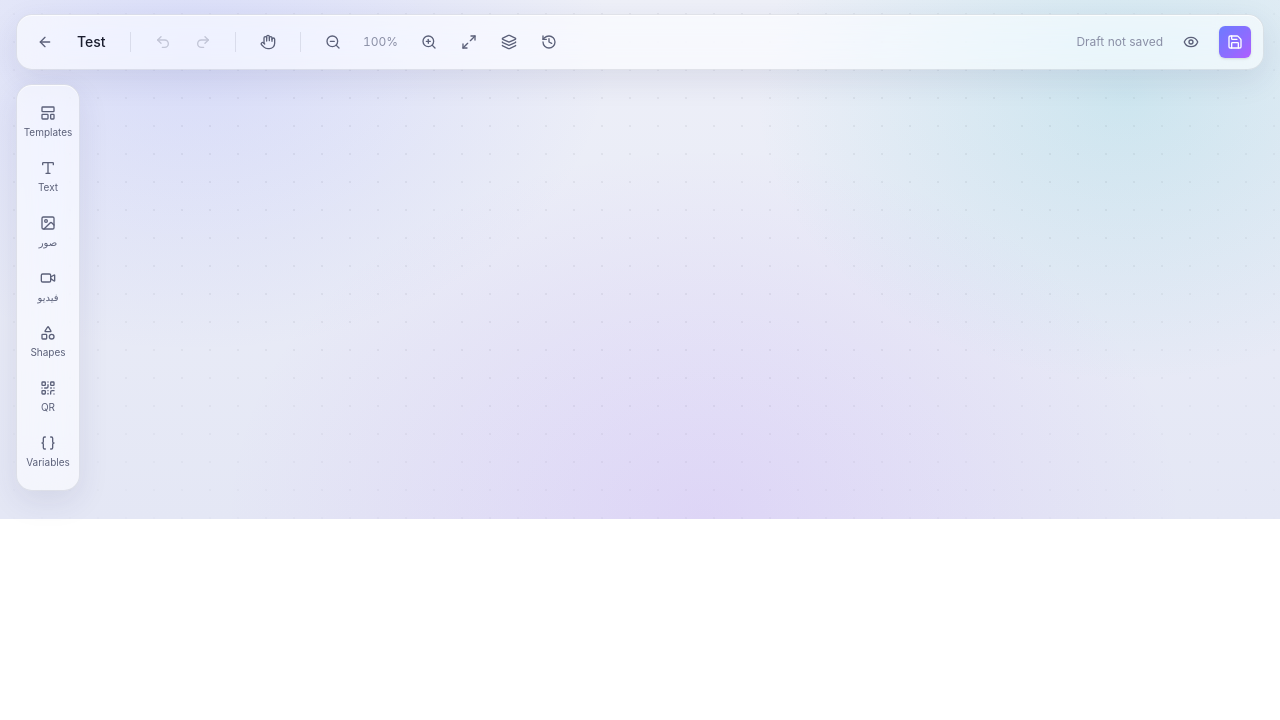
Designer2 media insertion workflow › presents the new media choices in Arabic with RTL direction
What coordinates should you click on to do the following:
click the button "صور"
I would click on:
 (48, 232)
Its box is [20,207,76,258].
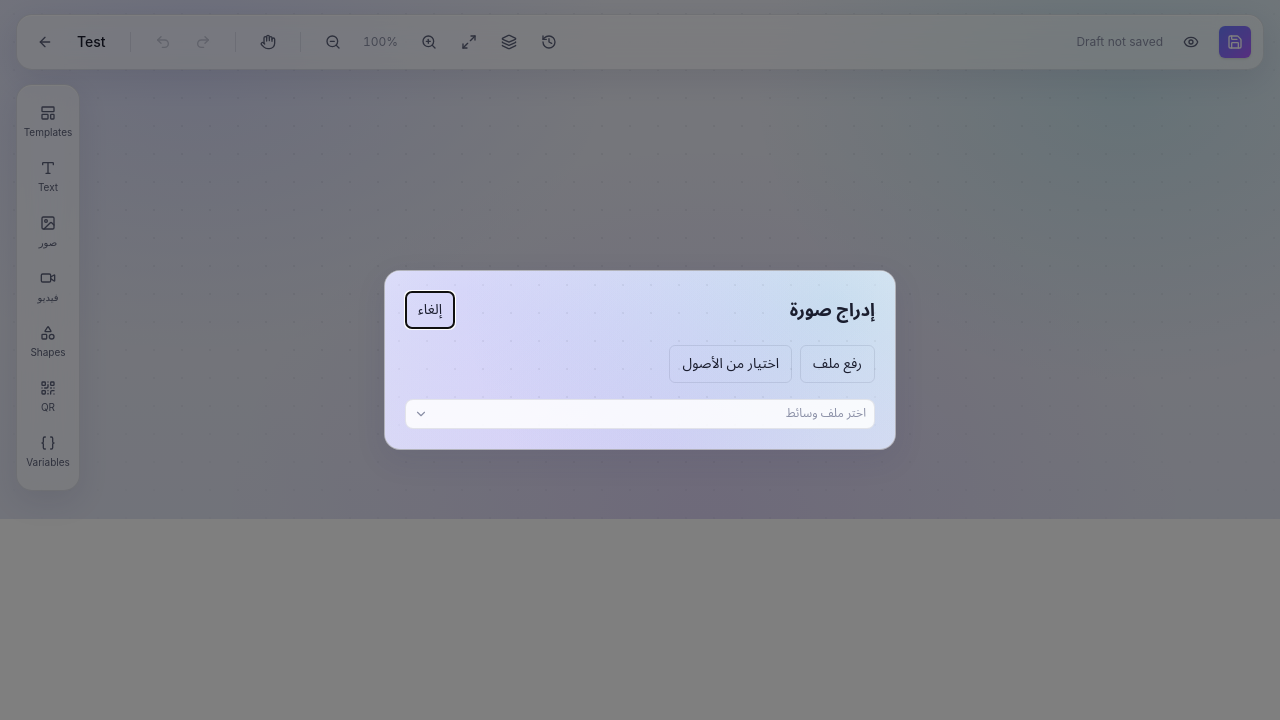
Expected: the button "رفع ملف" is shown, [800,345,875,383]
Expected: the button "اختيار من الأصول" is shown, [670,345,792,383]
